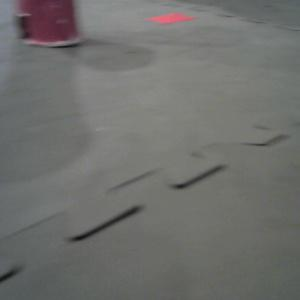middle: (11, 1, 86, 48)
